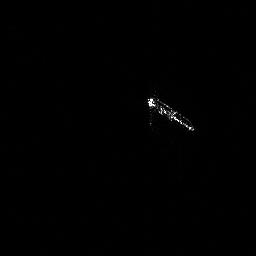ship: (146, 94, 197, 135)
